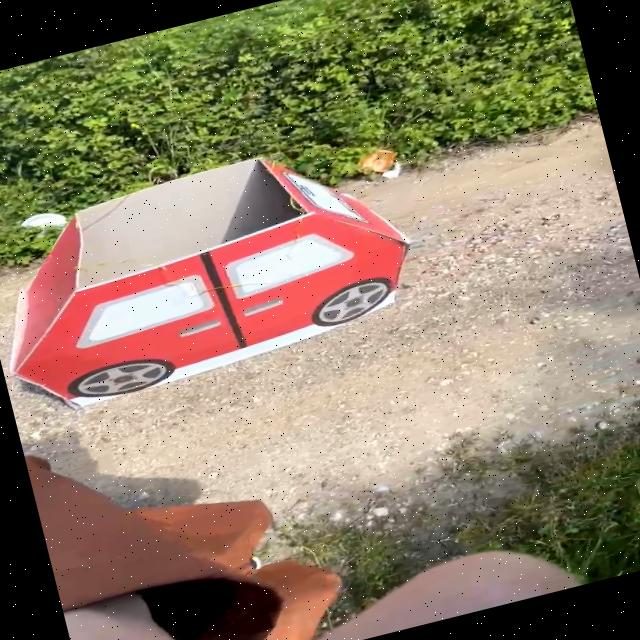red_car: (0, 93, 474, 427)
